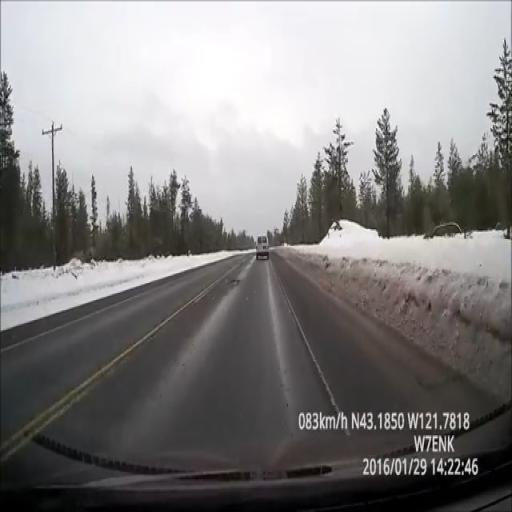Potholes: (229, 280, 238, 284)
